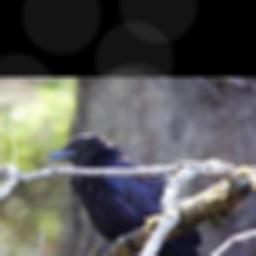Crow: (48, 133, 217, 256)
